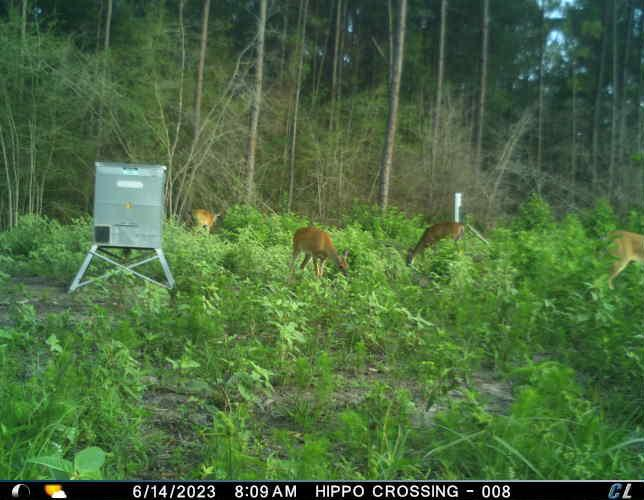Deer: (291, 226, 357, 285), (409, 220, 488, 267), (605, 226, 644, 290), (178, 207, 223, 240)
